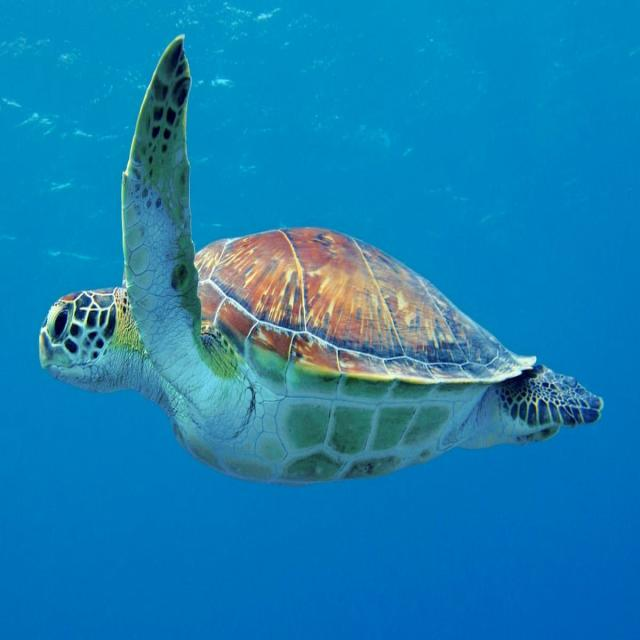turtle: (39, 37, 603, 484)
